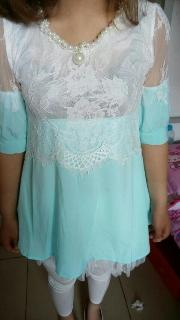short sleeve dress: (0, 0, 171, 281)
trousers: (34, 203, 124, 317)
